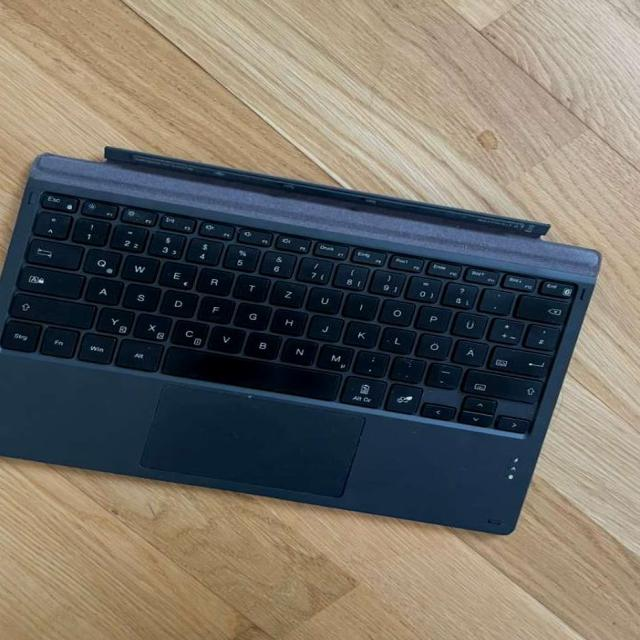0: (404, 273, 441, 299)
1: (69, 216, 108, 242)
2: (107, 222, 146, 249)
3: (146, 228, 184, 256)
4: (184, 235, 222, 261)
5: (222, 241, 258, 269)
6: (258, 248, 295, 275)
7: (294, 255, 332, 281)
8: (331, 261, 367, 287)
9: (366, 267, 405, 293)
a: (83, 275, 121, 303)
accent: (477, 285, 514, 312)
ae: (449, 337, 488, 364)
alt-left: (113, 337, 163, 369)
altgr-right: (338, 375, 386, 409)
b: (242, 330, 281, 356)
c: (169, 317, 208, 345)
caret: (30, 209, 69, 236)
comma: (352, 348, 388, 375)
d: (159, 287, 196, 315)
del: (513, 292, 569, 322)
e: (157, 258, 196, 286)
enter: (488, 343, 551, 375)
f: (196, 294, 232, 321)
g: (232, 300, 270, 327)
h: (269, 306, 306, 333)
hash: (523, 321, 560, 349)
i: (341, 290, 378, 317)
j: (305, 313, 342, 339)
k: (341, 319, 378, 345)
keyboard: (0, 187, 581, 442)
l: (377, 325, 414, 351)
m: (314, 342, 353, 369)
minus: (423, 360, 461, 386)
n: (279, 335, 317, 362)
o: (376, 297, 414, 323)
oe: (414, 332, 450, 357)
p: (414, 303, 450, 329)
plus: (485, 315, 522, 341)
point: (387, 354, 426, 379)
q: (81, 246, 120, 273)
r: (194, 265, 233, 293)
s: (120, 282, 159, 308)
shift-left: (7, 291, 95, 326)
shift-lock: (14, 264, 81, 296)
shift-right: (463, 366, 543, 403)
space: (159, 345, 342, 399)
ss: (440, 279, 478, 306)
strg-left: (0, 319, 40, 351)
t: (232, 272, 269, 298)
tab: (24, 235, 81, 267)
u: (304, 285, 342, 311)
ue: (449, 309, 487, 336)
v: (206, 323, 244, 350)
w: (119, 252, 157, 280)
x: (132, 312, 171, 338)
y: (94, 305, 133, 332)
z: (267, 278, 306, 304)
